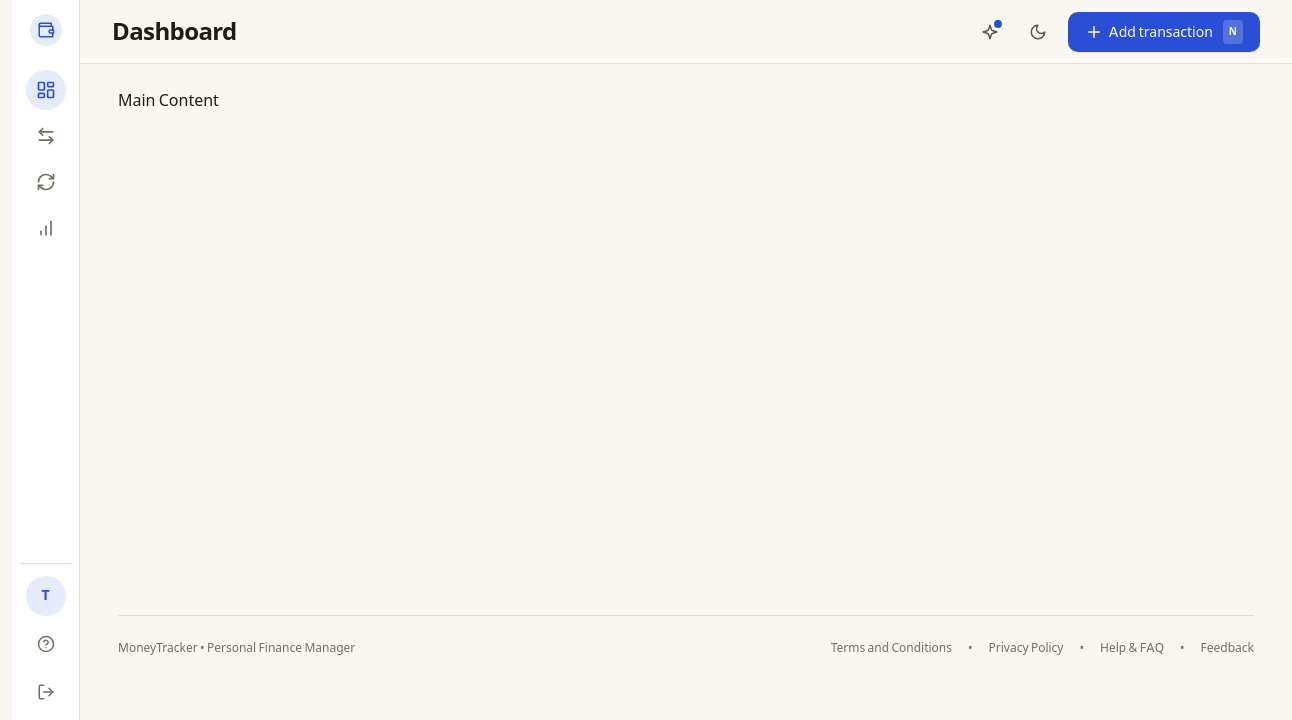
Test: Phase 3: AppShell & Navigation › 8. Collapsible Sidebar & Gemini-Style Slim Rail › expands sidebar back to 256px when clicking toggle button in rail
This screenshot has width=1292, height=720.
# Click logo toggle button in rail
Click the button named "Open sidebar" at x=46, y=30, box [26,10,66,50]
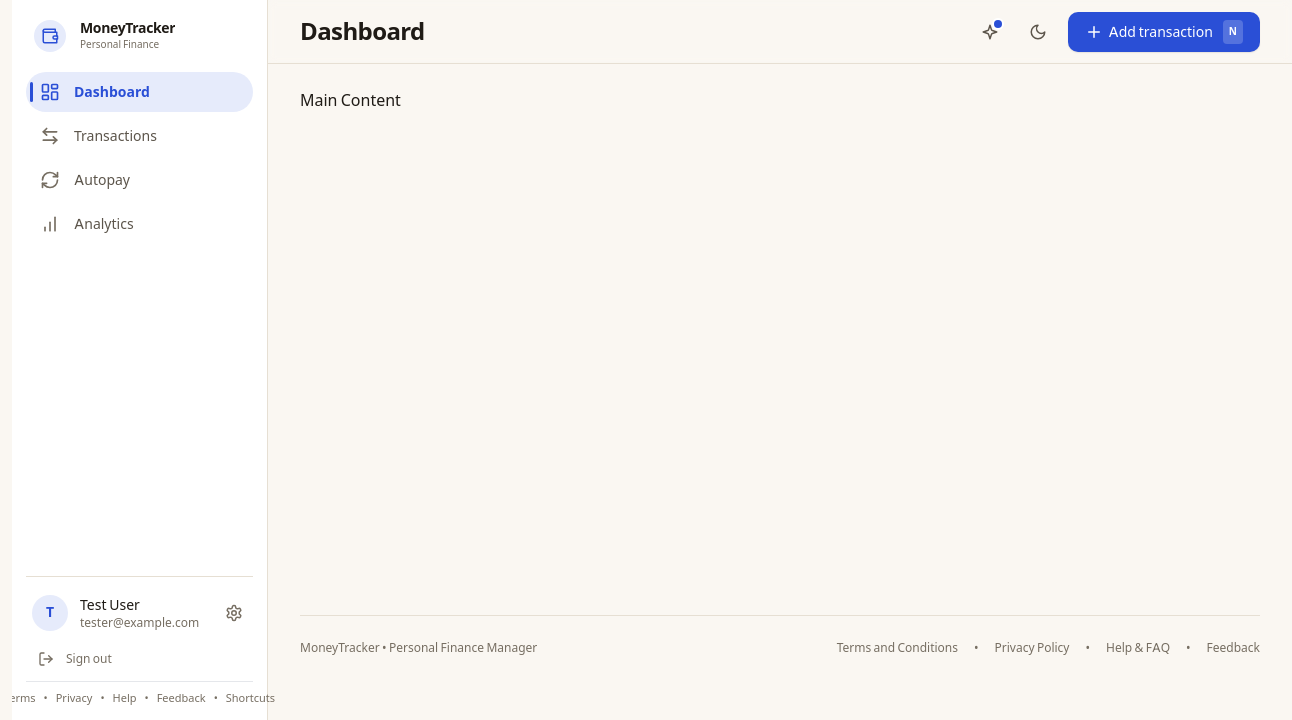
Result: the element named "Desktop Sidebar" has class "w-[256px]" at [12,0,268,719]
Result: the header named "App Header" has class "min-[1025px]:left-[256px]" at [268,0,1291,64]
Result: the element that starts with "Main Content" has class "min-[1025px]:pl-[256px]" at [300,90,1260,656]
